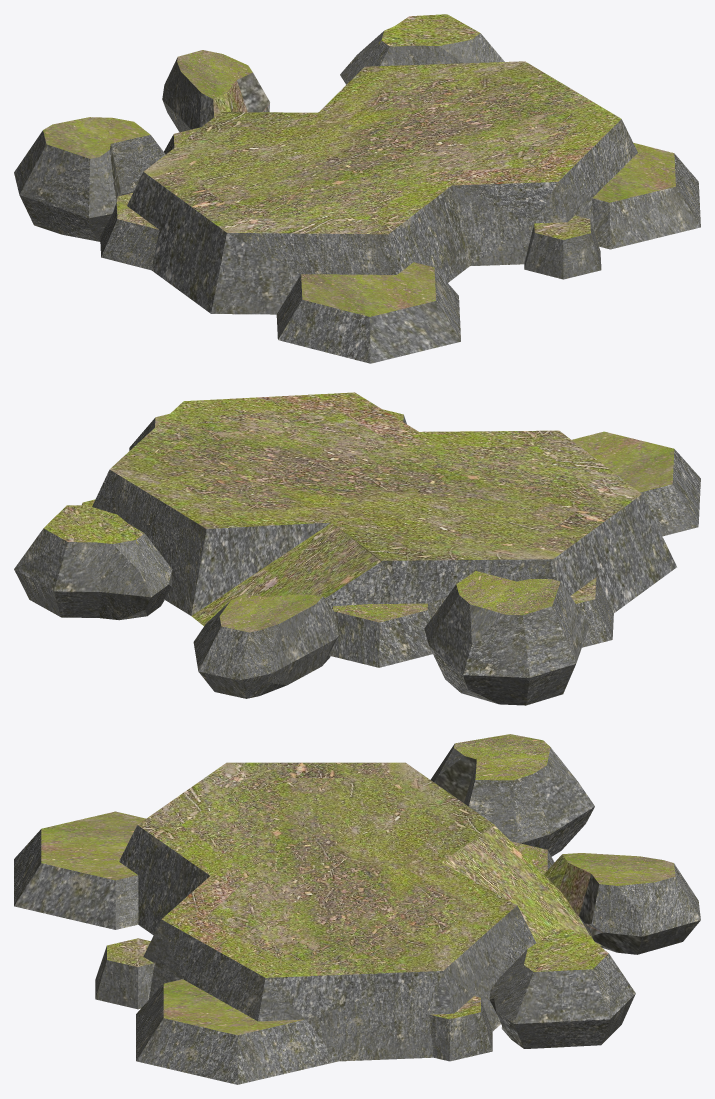
The picture shows the model from 3 angles, top to bottom: view 1: azimuth 30°, elevation 25°; view 2: azimuth 150°, elevation 25°; view 3: azimuth 270°, elevation 25°; orthographic projection. The views are drawn at different scales.
Parts seen in each view (by area): view 1: tempreat; view 2: tempreat; view 3: tempreat.
Boxes of the visible parts, x1,y1,x2,y2 form: tempreat: (14,14,700,363); tempreat: (14,392,700,705); tempreat: (14,734,700,1084).
Size of the model in its own units: 4.14 by 0.5683 by 4.19.
1 material, 1 textured.
